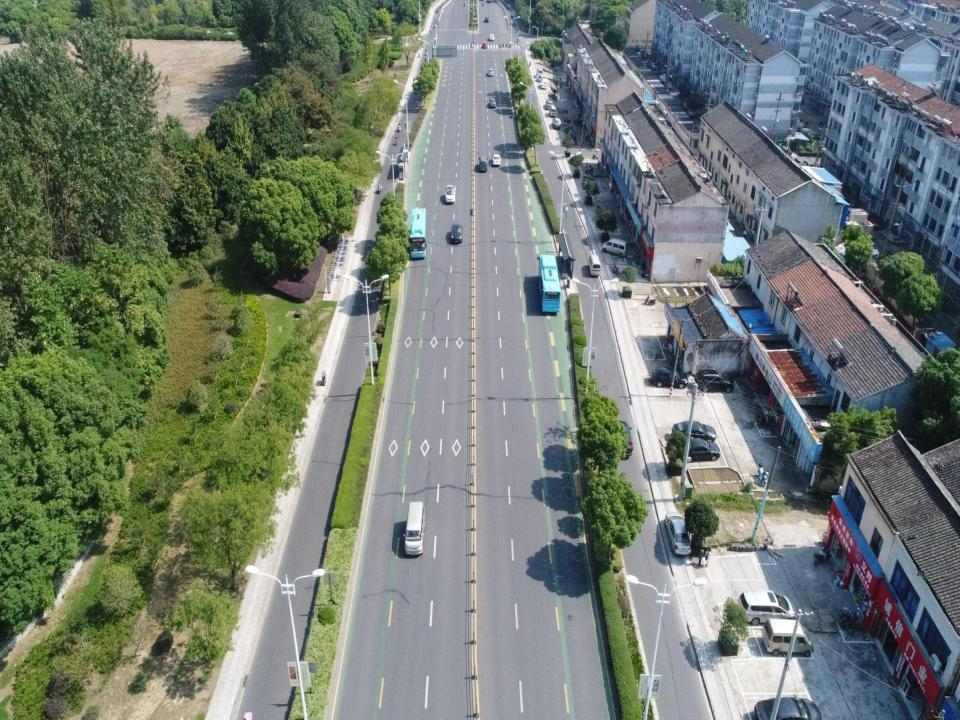bus: (536, 251, 561, 315), (408, 206, 426, 261)
car: (736, 586, 794, 626), (752, 697, 823, 719), (663, 512, 692, 559), (675, 433, 721, 461), (649, 365, 688, 394), (691, 366, 734, 392), (670, 419, 716, 443), (610, 419, 633, 457), (445, 183, 456, 205), (450, 223, 462, 243), (477, 154, 488, 174), (490, 152, 500, 165), (551, 118, 561, 130), (488, 96, 497, 109), (545, 100, 554, 110), (536, 74, 547, 82), (481, 38, 488, 50), (539, 80, 547, 90), (488, 33, 495, 42), (488, 67, 494, 76), (484, 16, 489, 22)
van: (759, 619, 812, 659), (403, 499, 427, 556), (603, 236, 627, 258), (588, 252, 600, 274), (548, 104, 556, 116), (536, 68, 543, 75)
